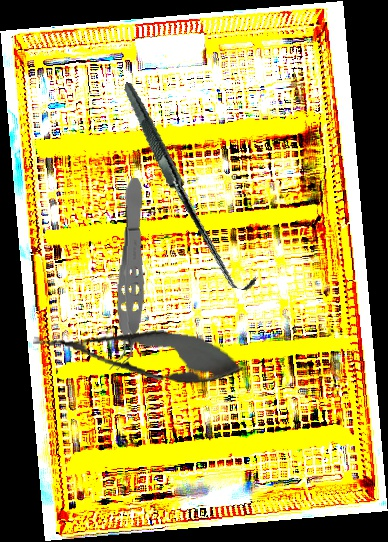Hook Surgical: (88, 81, 291, 293)
Micro Scissor: (30, 314, 246, 393)
Tissue Forceps: (108, 177, 151, 372)
